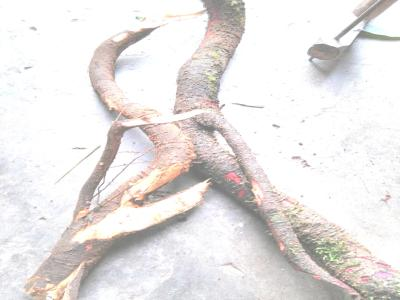Root: (25, 0, 400, 300)
